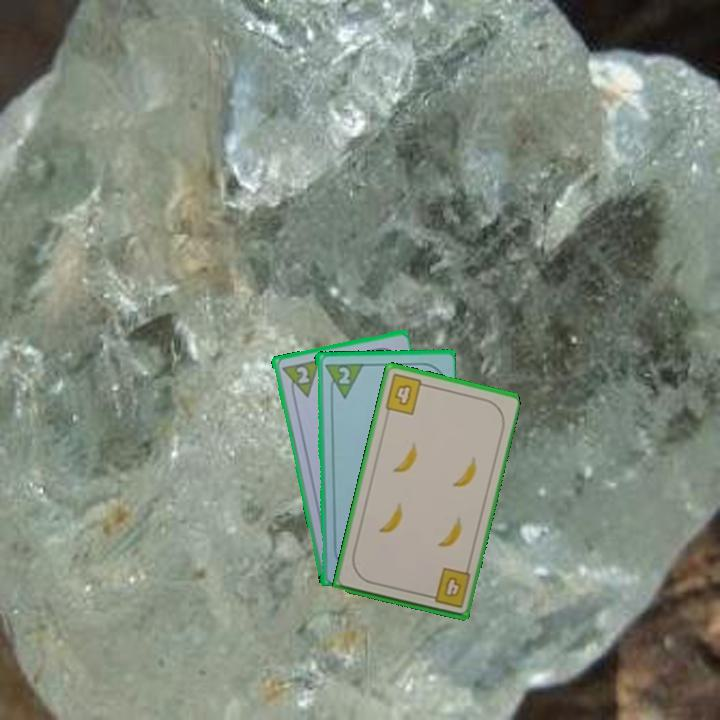2p: (278, 356, 322, 402), (334, 363, 352, 387)
4b: (381, 370, 431, 418), (423, 564, 473, 611)
